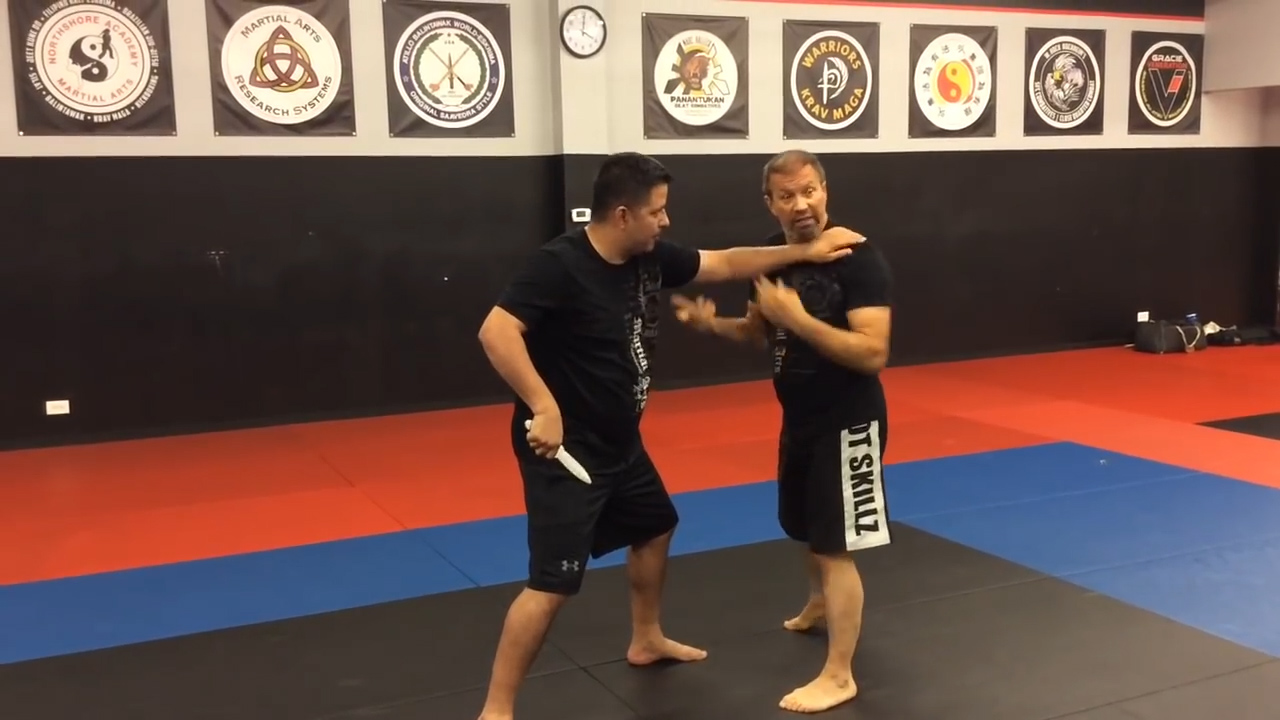knife: (515, 408, 598, 492)
